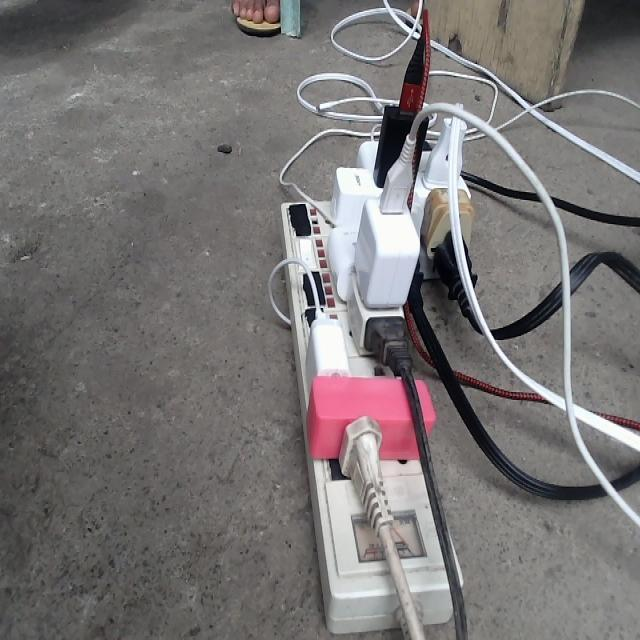-: (279, 10, 496, 638)
